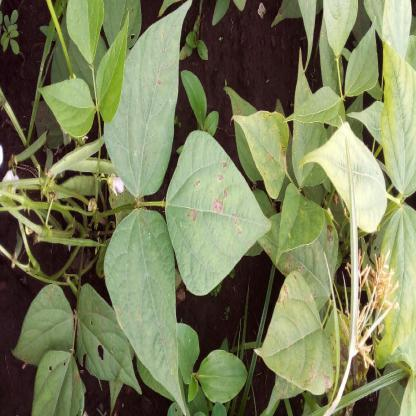Beans_Angular_LeafSpot: (162, 127, 272, 298), (108, 0, 194, 198), (248, 210, 340, 299), (73, 282, 141, 396)
